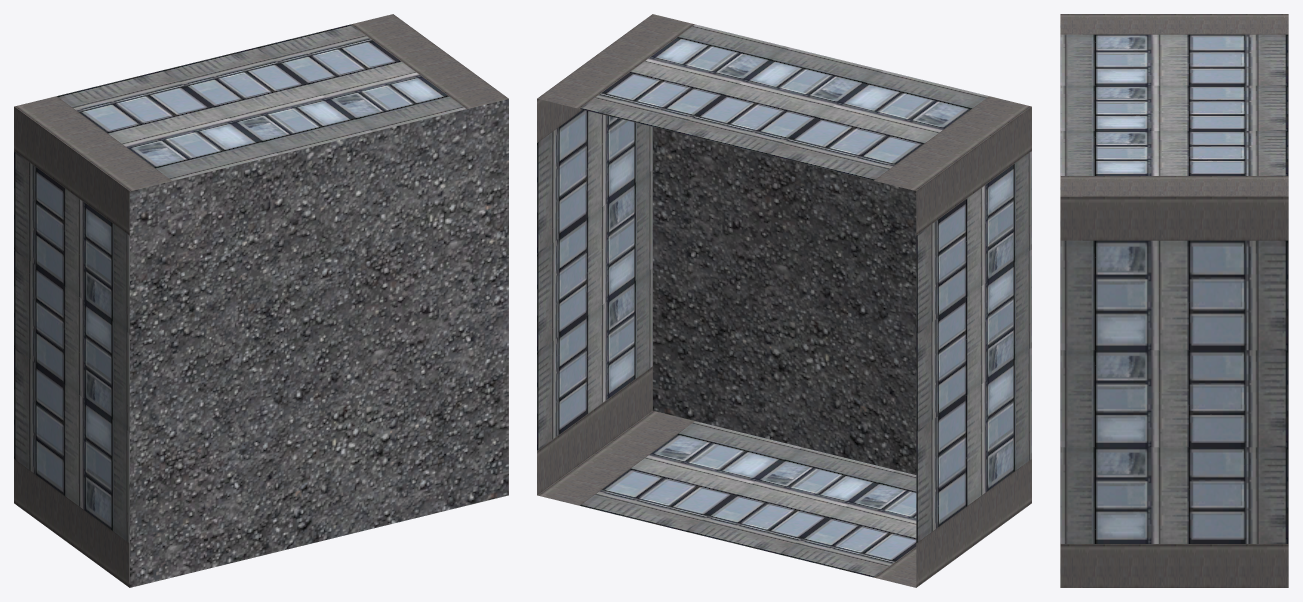
The model's file is mp_nuketown_2020_vista_bldg_08_LOD0.obj.
The picture shows the model from 3 angles, left to right: view 1: azimuth 30°, elevation 25°; view 2: azimuth 150°, elevation 25°; view 3: azimuth 270°, elevation 25°; orthographic projection.
Parts seen in each view (by area): view 1: mp_m_vista_bldgs_01; view 2: mp_m_vista_bldgs_01; view 3: mp_m_vista_bldgs_01.
Boxes of the visible parts, x1,y1,x2,y2 form: mp_m_vista_bldgs_01: (14, 14, 508, 587); mp_m_vista_bldgs_01: (537, 14, 1031, 587); mp_m_vista_bldgs_01: (1060, 14, 1288, 587).
Bounding box in the file's own units: 1808 × 1808 × 955.
Materials: 1 (1 with a texture image).
